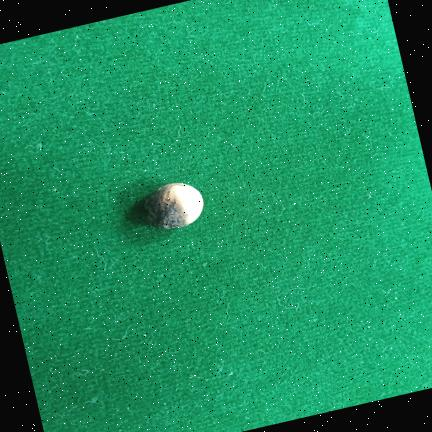partial-black: (145, 183, 204, 228)
